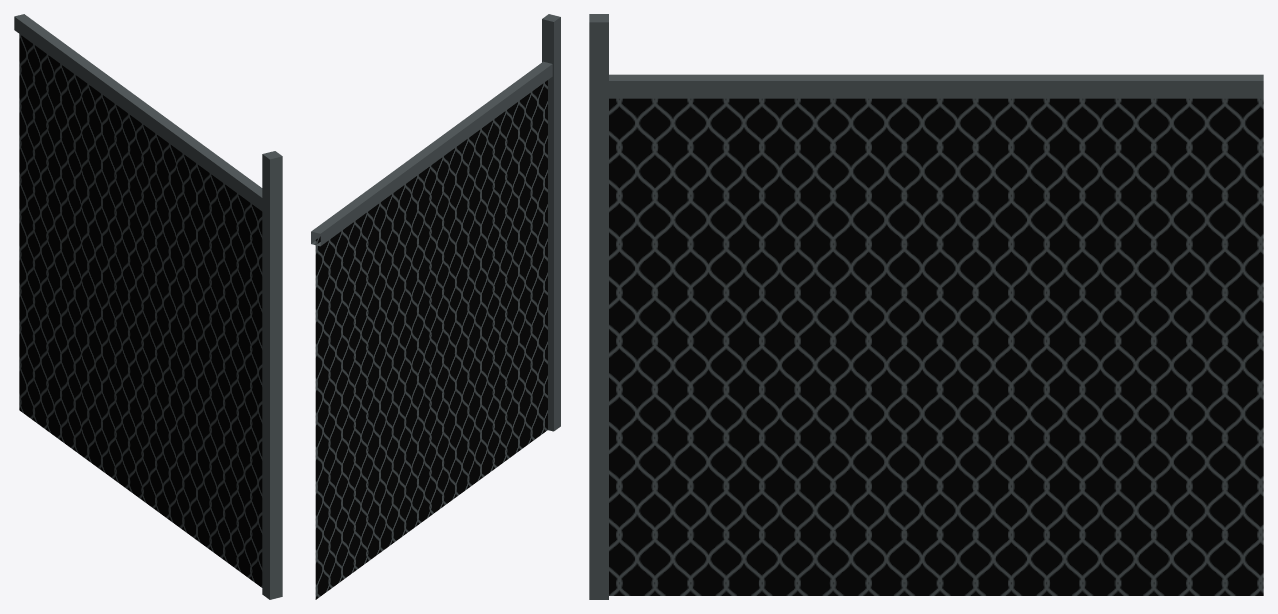
Rendered from fance_01_p2.fbx.
3 renders of one model, left to right at view 1: azimuth 30°, elevation 25°; view 2: azimuth 150°, elevation 25°; view 3: azimuth 270°, elevation 25°, orthographic. The views are drawn at different scales.
Parts seen in each view (by area): view 1: fance_01_p2; view 2: fance_01_p2; view 3: fance_01_p2.
Boxes of the visible parts, left/top/right/bottom form: fance_01_p2: left=14, top=14, right=282, bottom=599; fance_01_p2: left=311, top=14, right=560, bottom=599; fance_01_p2: left=589, top=14, right=1263, bottom=599.
Bounding box in the file's own units: 11.56 × 376 × 398.
